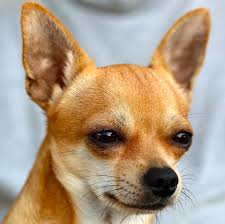chihuahua: (17, 1, 213, 220)
